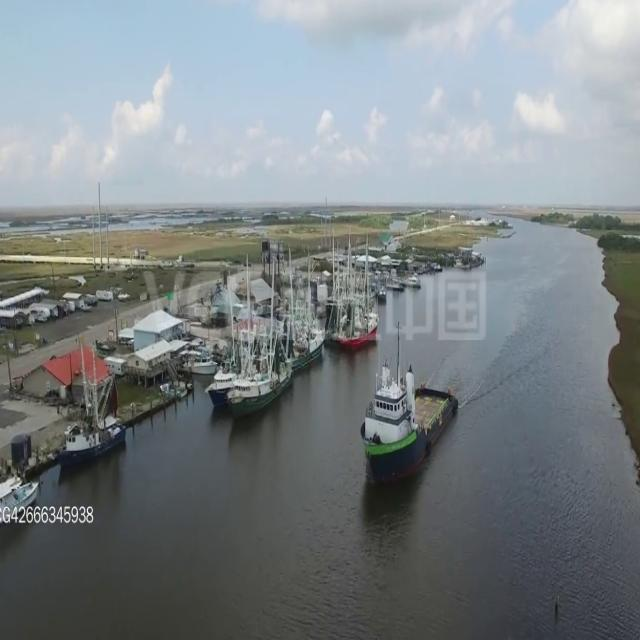fishing boat: (348, 343, 464, 474), (214, 331, 304, 427), (0, 436, 53, 535)
